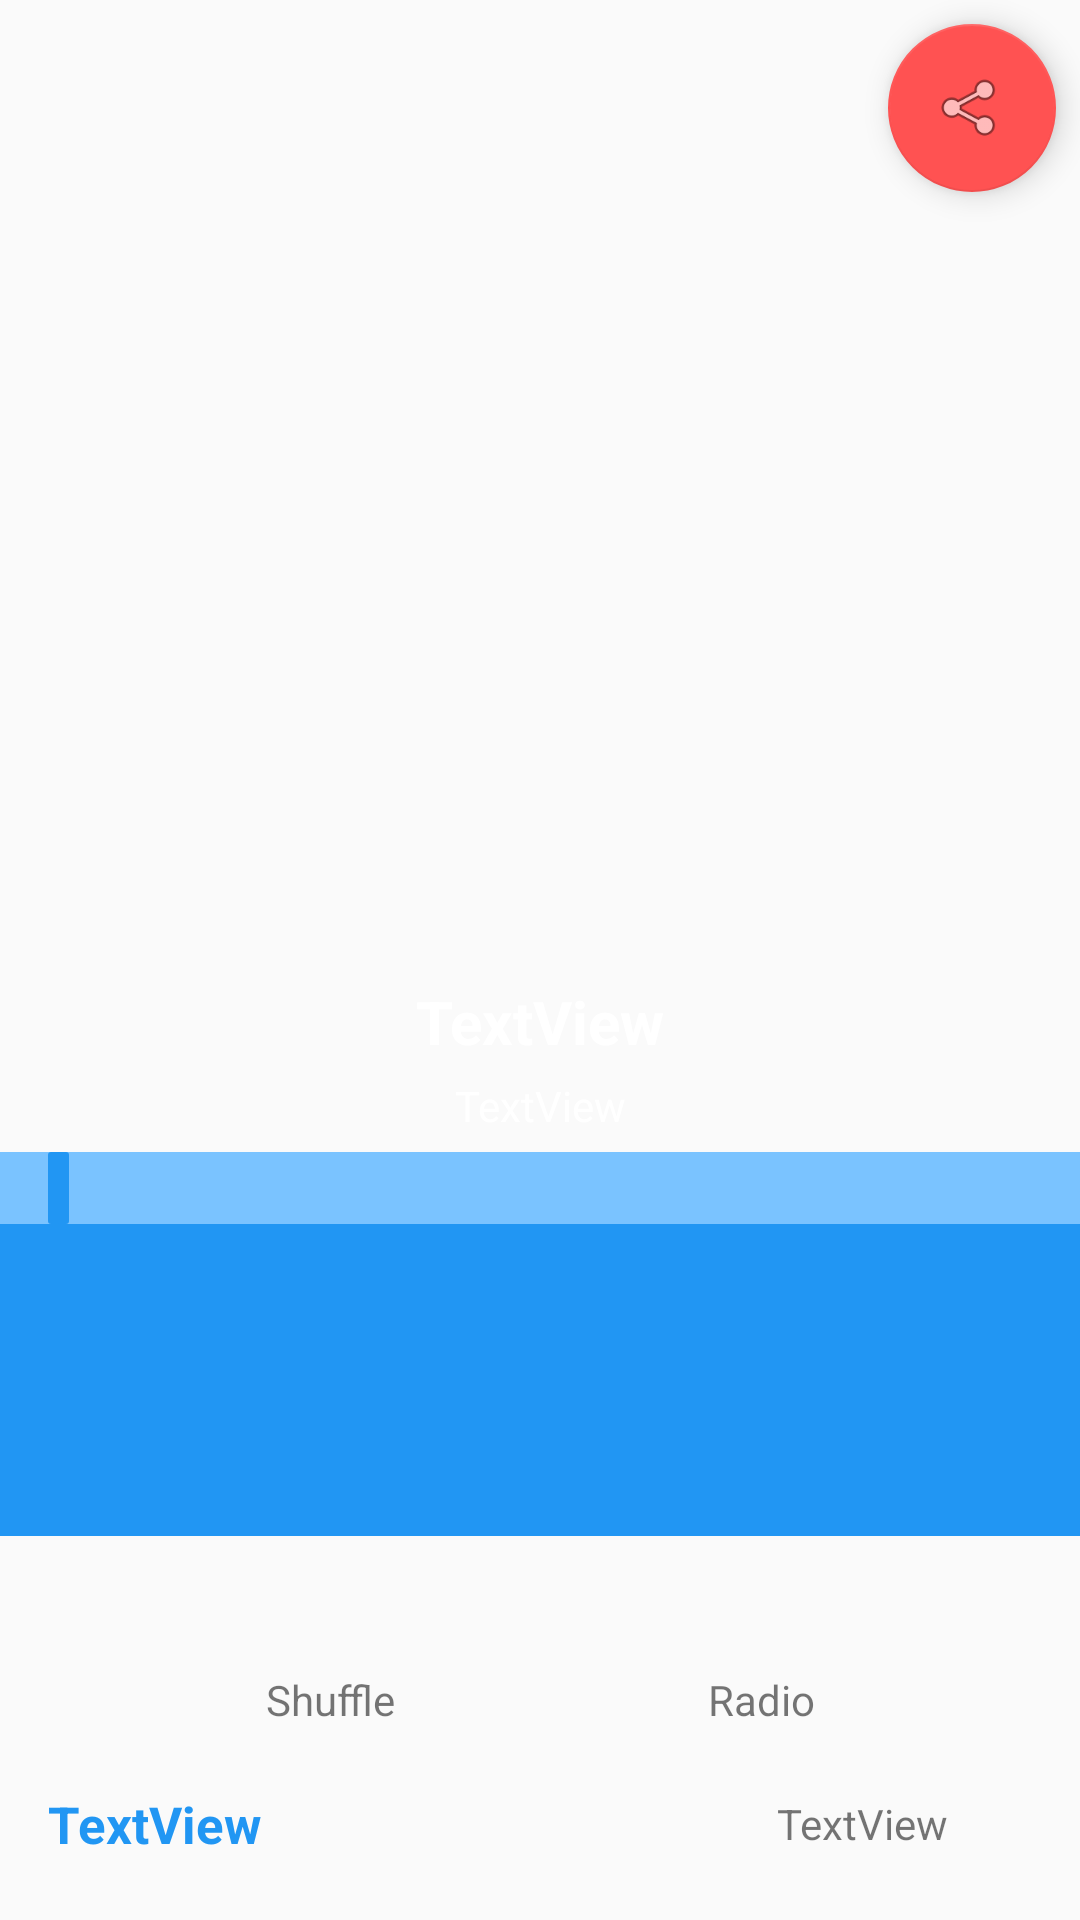

Icons on this 1080 × 1920 Android screen, each with its box as {"x1": x1, "y1": y1, "x2": x2, "y2": y2}:
share: {"x1": 888, "y1": 24, "x2": 1056, "y2": 192}
